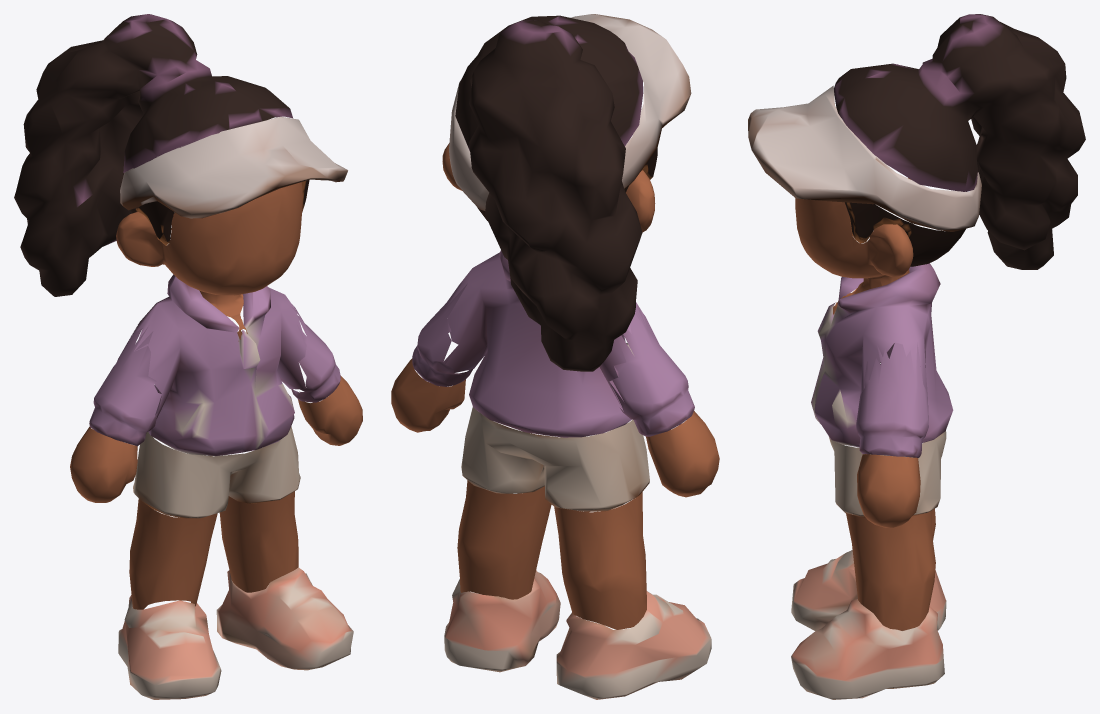
The picture shows the model from 3 angles, left to right: view 1: azimuth 30°, elevation 25°; view 2: azimuth 150°, elevation 25°; view 3: azimuth 270°, elevation 25°; orthographic projection. The views are drawn at different scales.
Visible parts, largest first — view 1: hair, top, head, acc_head_0, shoe_l, shoe_r, leg_r, leg_l, sleeve_r, hand_r, hand_l, sleeve_l (+1 smaller); view 2: hair, top, shoe_r, leg_r, leg_l, acc_head_0, shoe_l, sleeve_r, hand_r, hand_l, sleeve_l, head; view 3: hair, top, acc_head_0, shoe_l, leg_l, head, sleeve_l, shoe_r, hand_l, acc_head_1.
Part boxes in pixels (left/top/right/bottom): hair: left=14, top=14, right=292, bottom=296; top: left=128, top=274, right=306, bottom=518; head: left=116, top=182, right=303, bottom=341; acc_head_0: left=120, top=116, right=347, bottom=218; shoe_l: left=216, top=567, right=353, bottom=670; shoe_r: left=118, top=595, right=221, bottom=699; leg_r: left=129, top=498, right=217, bottom=609; leg_l: left=219, top=491, right=298, bottom=592; sleeve_r: left=89, top=326, right=161, bottom=446; hand_r: left=70, top=426, right=137, bottom=502; hand_l: left=298, top=376, right=362, bottom=445; sleeve_l: left=291, top=304, right=340, bottom=402; hair: left=455, top=15, right=643, bottom=371; top: left=445, top=250, right=649, bottom=511; shoe_r: left=556, top=591, right=711, bottom=699; leg_r: left=554, top=492, right=646, bottom=629; leg_l: left=457, top=480, right=551, bottom=599; acc_head_0: left=449, top=14, right=691, bottom=210; shoe_l: left=444, top=570, right=560, bottom=672; sleeve_r: left=610, top=303, right=694, bottom=436; hand_r: left=646, top=411, right=719, bottom=497; hand_l: left=391, top=358, right=465, bottom=432; sleeve_l: left=412, top=282, right=472, bottom=386; head: left=442, top=143, right=655, bottom=232; hair: left=834, top=14, right=1085, bottom=269; top: left=811, top=263, right=953, bottom=516; acc_head_0: left=748, top=85, right=981, bottom=231; shoe_l: left=791, top=599, right=944, bottom=699; leg_l: left=846, top=510, right=935, bottom=630; head: left=795, top=178, right=913, bottom=314; sleeve_l: left=856, top=342, right=928, bottom=457; shoe_r: left=791, top=549, right=946, bottom=630; hand_l: left=857, top=454, right=920, bottom=527; acc_head_1: left=845, top=202, right=965, bottom=266.
Size of the model in its own units: 0.5007 by 1.03 by 0.5114.
